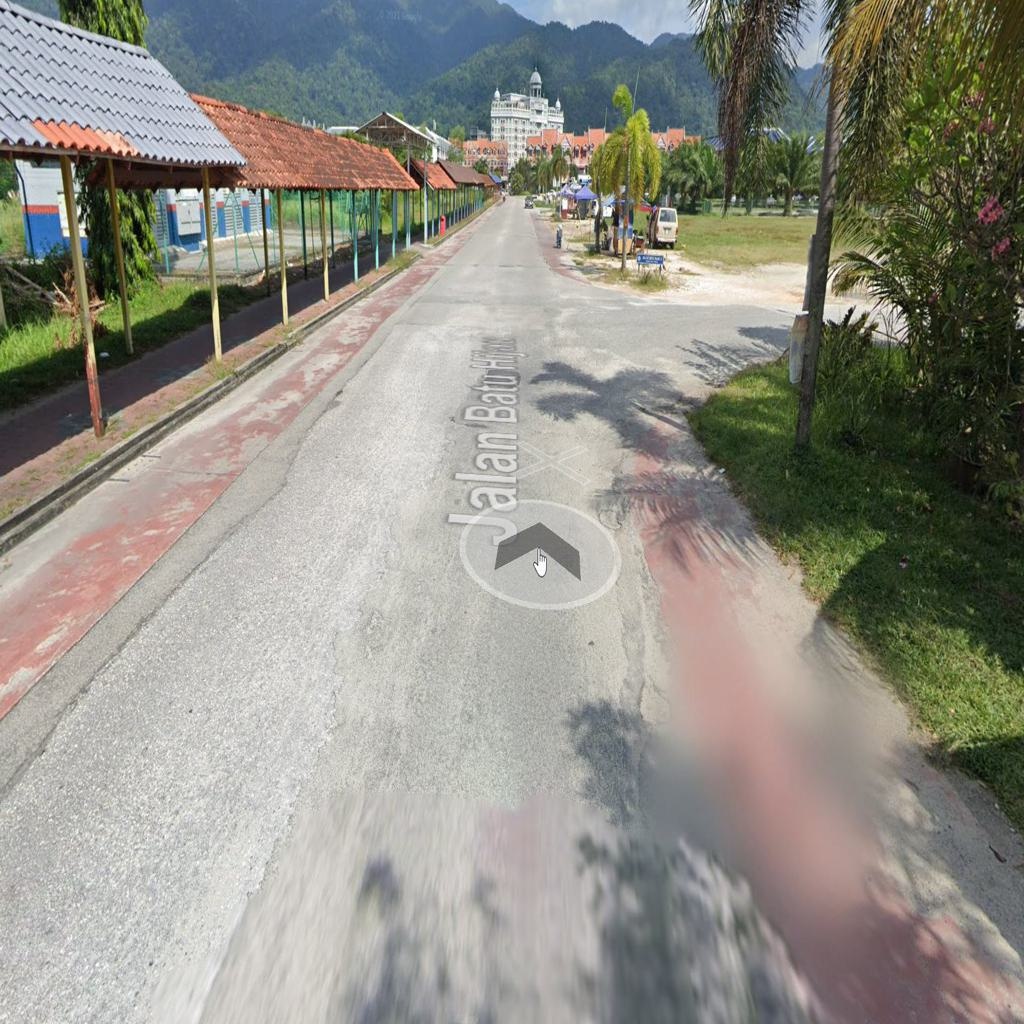Junction: (551, 239, 788, 468)
